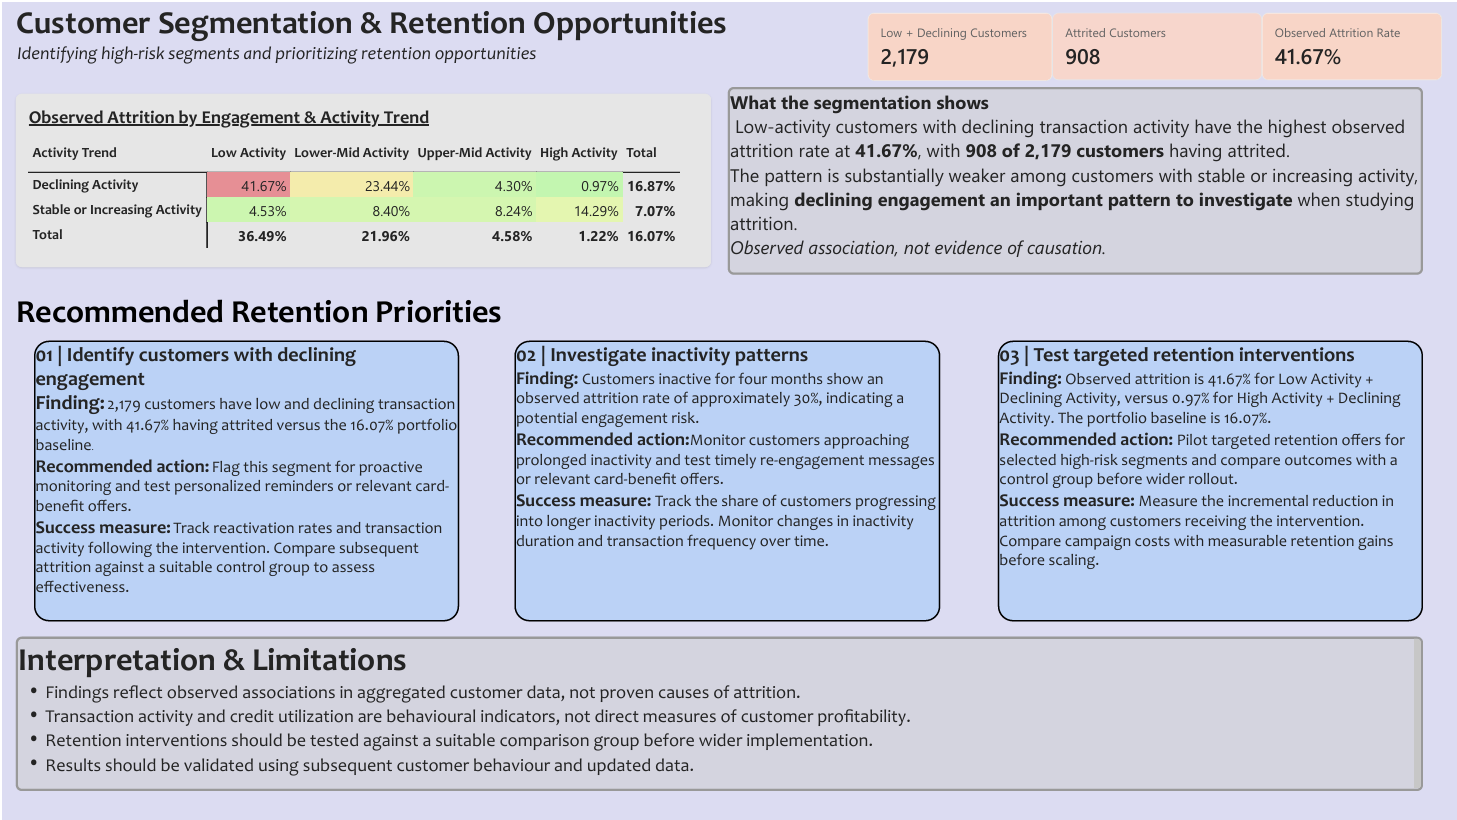

The page's visual inventory and layout, read from the dashboard file:
{"tool":"powerbi","page":{"name":"Customer Segmentation","canvas":[1920,1080],"ordinal":2},"visuals":[{"type":"textbox","box":[0,0,1018.8,119.4],"z":0},{"type":"pivotTable","title":"Observed Attrition by Engagement & Activity Trend","fields":{"Columns":["public vw_powerbi_customer_dataset.engagement_segment"],"Rows":["public vw_powerbi_customer_dataset.activity_trend"],"Values":["public vw_attrition_by_profile.Attrition Rate Numeric"]},"box":[18.1,121.2,919.1,228.8],"z":1},{"type":"cardVisual","fields":{"Data":["public vw_attrition_by_profile.Low Declining Customers"]},"box":[1143.7,14.5,244.3,90.5],"z":2},{"type":"cardVisual","fields":{"Data":["public vw_attrition_by_profile.Low Declining Attrited Customers"]},"box":[1388,14.5,277.7,90],"z":3},{"type":"cardVisual","fields":{"Data":["public vw_attrition_by_profile.Low Declining Attrition Rate"]},"box":[1664.9,14.5,238.6,90],"z":4},{"type":"textbox","box":[959.1,112.2,919.3,247.9],"z":5},{"type":"textbox","box":[18.1,381.8,834.3,65.1],"z":6},{"type":"textbox","box":[41.6,447,562.8,371],"z":7},{"type":"textbox","box":[676.8,447,562.8,371],"z":8},{"type":"textbox","box":[1315.6,447,562.8,371],"z":9},{"type":"textbox","box":[18.1,837.9,1860.3,204.5],"z":10}]}

Visuals, with their boxes in screenshot pixels (x1, y1, x2, y2), scaled from the page's 1920x1080 canvas onto the 1457x820 screenshot:
textbox: <bbox>0, 0, 773, 91</bbox>
"Observed Attrition by Engagement & Activity Trend" pivotTable: <bbox>14, 92, 711, 266</bbox>
cardVisual - public vw_attrition_by_profile.Low Declining Customers: <bbox>868, 11, 1053, 80</bbox>
cardVisual - public vw_attrition_by_profile.Low Declining Attrited Customers: <bbox>1053, 11, 1264, 79</bbox>
cardVisual - public vw_attrition_by_profile.Low Declining Attrition Rate: <bbox>1263, 11, 1444, 79</bbox>
textbox: <bbox>728, 85, 1425, 273</bbox>
textbox: <bbox>14, 290, 647, 339</bbox>
textbox: <bbox>32, 339, 459, 621</bbox>
textbox: <bbox>514, 339, 941, 621</bbox>
textbox: <bbox>998, 339, 1425, 621</bbox>
textbox: <bbox>14, 636, 1425, 791</bbox>
